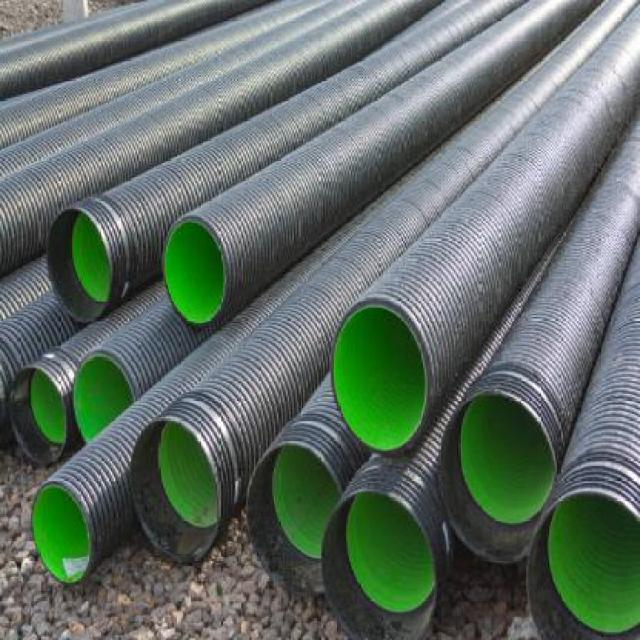pipe: (438, 391, 556, 564), (320, 486, 438, 638), (526, 490, 640, 639), (330, 300, 429, 456), (246, 443, 340, 597), (129, 417, 220, 564), (48, 208, 111, 322), (163, 215, 226, 326), (33, 480, 92, 584), (9, 363, 66, 464), (72, 352, 133, 444)
